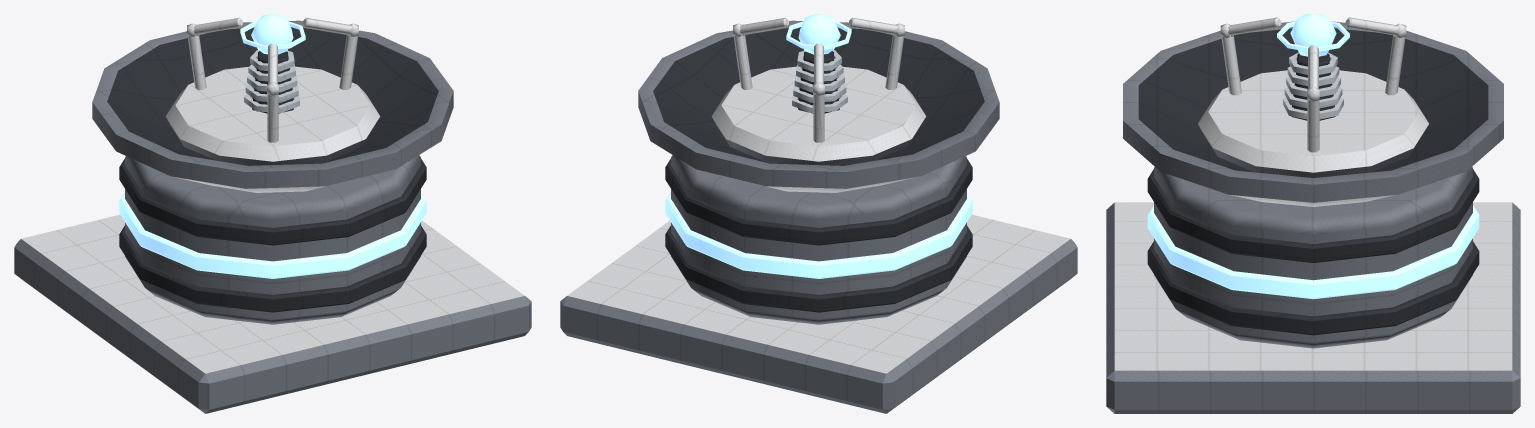
File: R4X_EMPTrapDeployer_LOD1.glb
3 views of the same model, side by side, from view 1: azimuth 30°, elevation 25°; view 2: azimuth 150°, elevation 25°; view 3: azimuth 270°, elevation 25° (orthographic). The views are drawn at different scales.
Parts seen in each view (by area): view 1: R4X_EMPTrapDeployer_LOD1; view 2: R4X_EMPTrapDeployer_LOD1; view 3: R4X_EMPTrapDeployer_LOD1.
Part boxes in pixels (x1,y1,x2,y2): R4X_EMPTrapDeployer_LOD1: (14, 14, 531, 413); R4X_EMPTrapDeployer_LOD1: (560, 14, 1077, 413); R4X_EMPTrapDeployer_LOD1: (1106, 14, 1520, 413).
Bounding box in the file's own units: 0.52 × 0.437 × 0.52.
5 materials, 4 textured.
